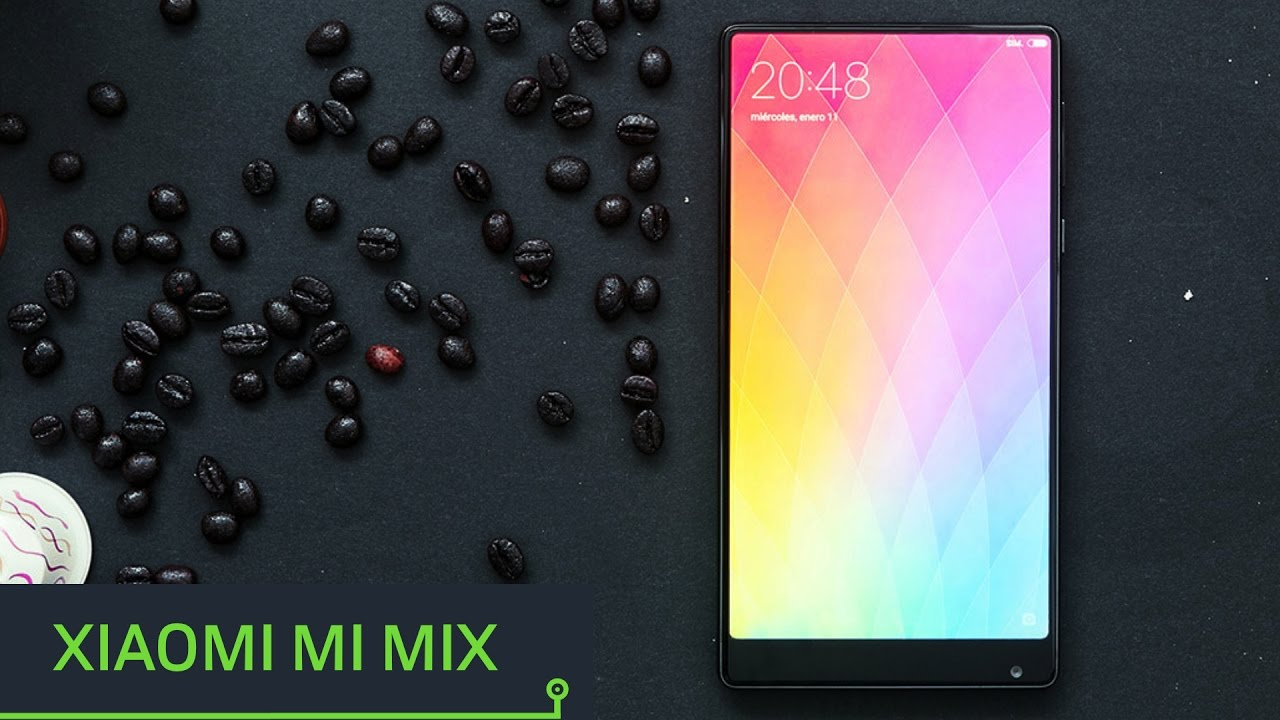smartphone: (720, 22, 1065, 686)
